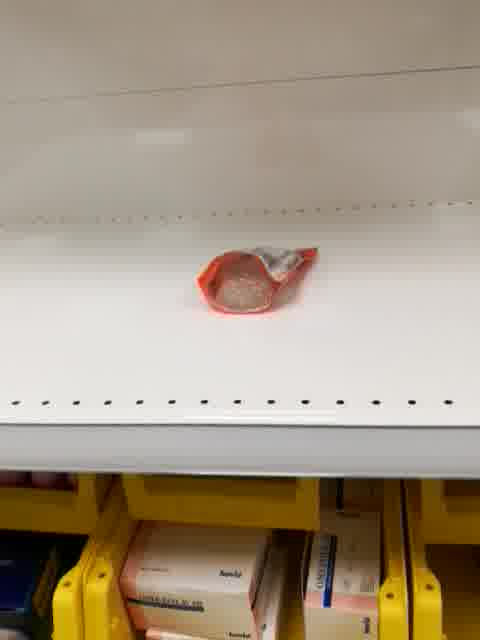whitechia: (195, 242, 321, 317)
